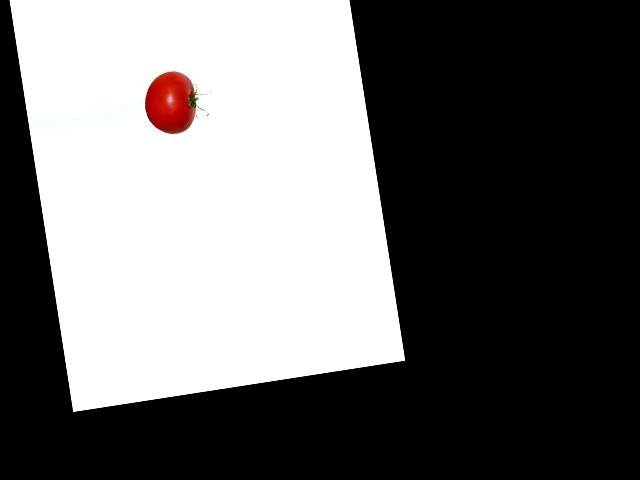tomato: (140, 68, 200, 136)
